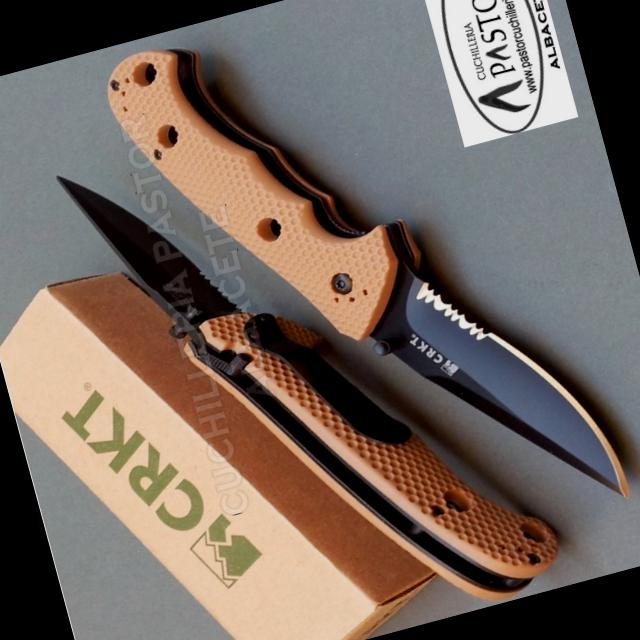knife: (327, 211, 639, 570), (44, 132, 240, 352)
